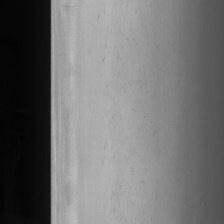silk_spot: (93, 0, 157, 217)
